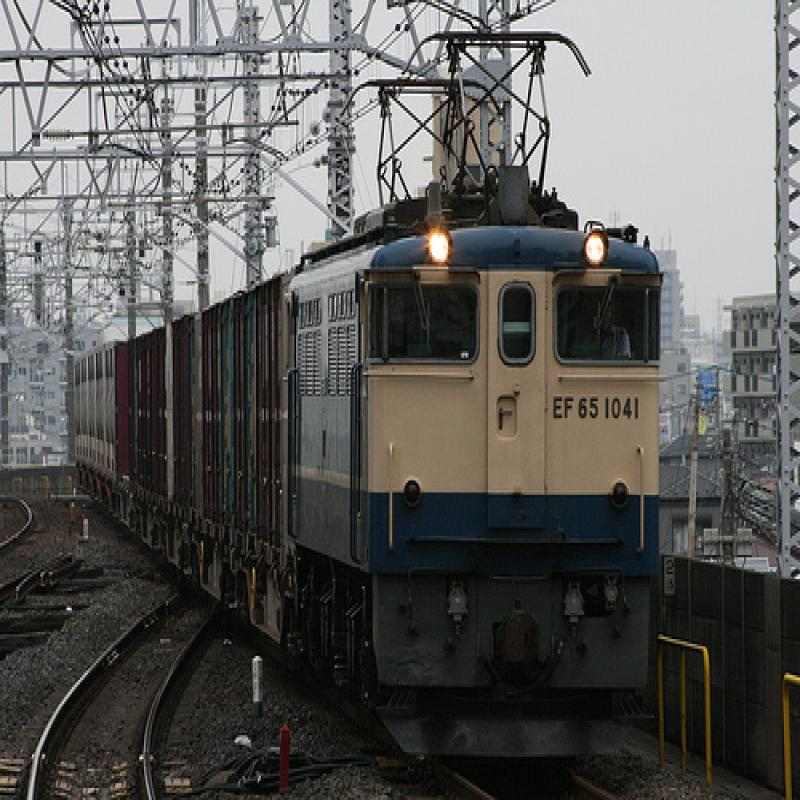train: (67, 30, 667, 760)
